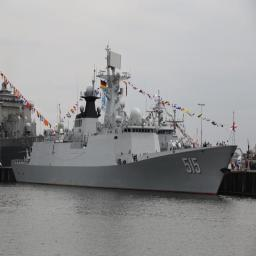Fragata: (13, 41, 240, 200)
